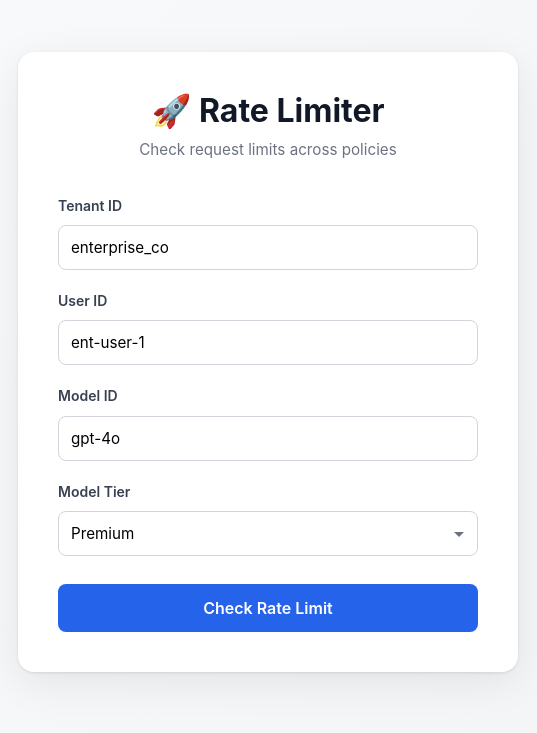
Test: Rate Limiter App › Error Handling › should display error on API failure
Click the button "Check Rate Limit" at (268, 608), box x1=58 y1=584 x2=478 y2=632
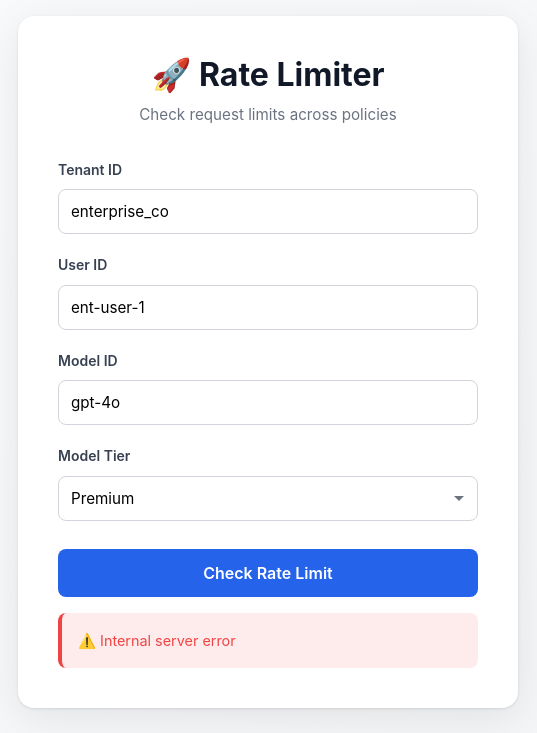
Result: the text "Internal server error" is shown at x1=100 y1=632 x2=236 y2=649
